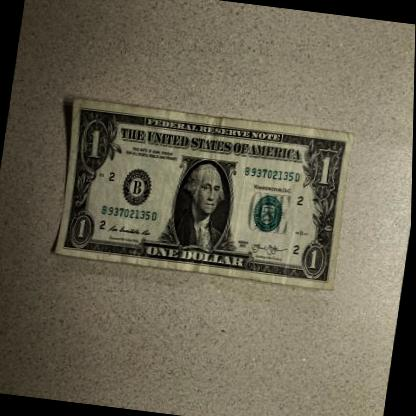one-front: (49, 97, 358, 292)
